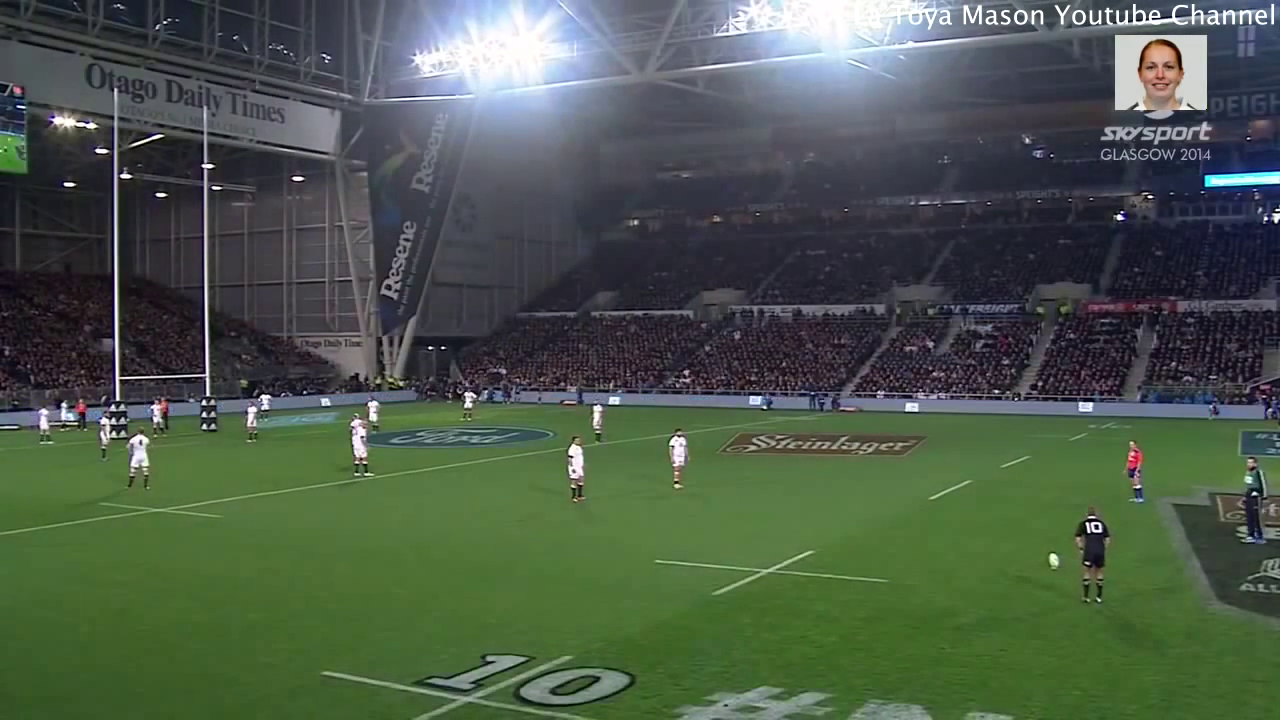10_metre: (309, 639, 642, 720), (645, 540, 893, 605)
ball: (1044, 548, 1061, 572)
player: (1069, 504, 1115, 612), (1235, 448, 1269, 548), (561, 432, 593, 504), (341, 412, 373, 480), (125, 431, 157, 497), (664, 429, 696, 493), (1123, 433, 1148, 505), (240, 402, 265, 445), (587, 397, 608, 448), (32, 404, 55, 447), (150, 396, 172, 435), (365, 390, 382, 438), (457, 387, 477, 425), (99, 413, 113, 455), (255, 388, 273, 420)
post: (101, 80, 225, 448)
